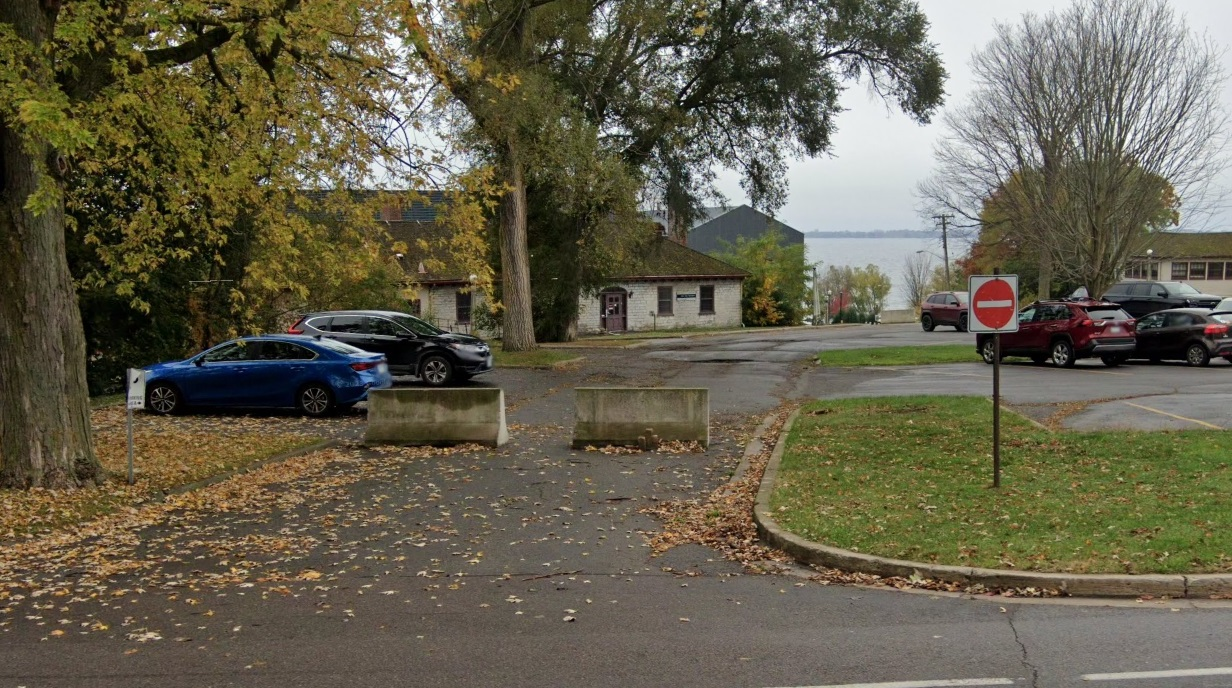sign_noentry: (967, 274, 1019, 332)
